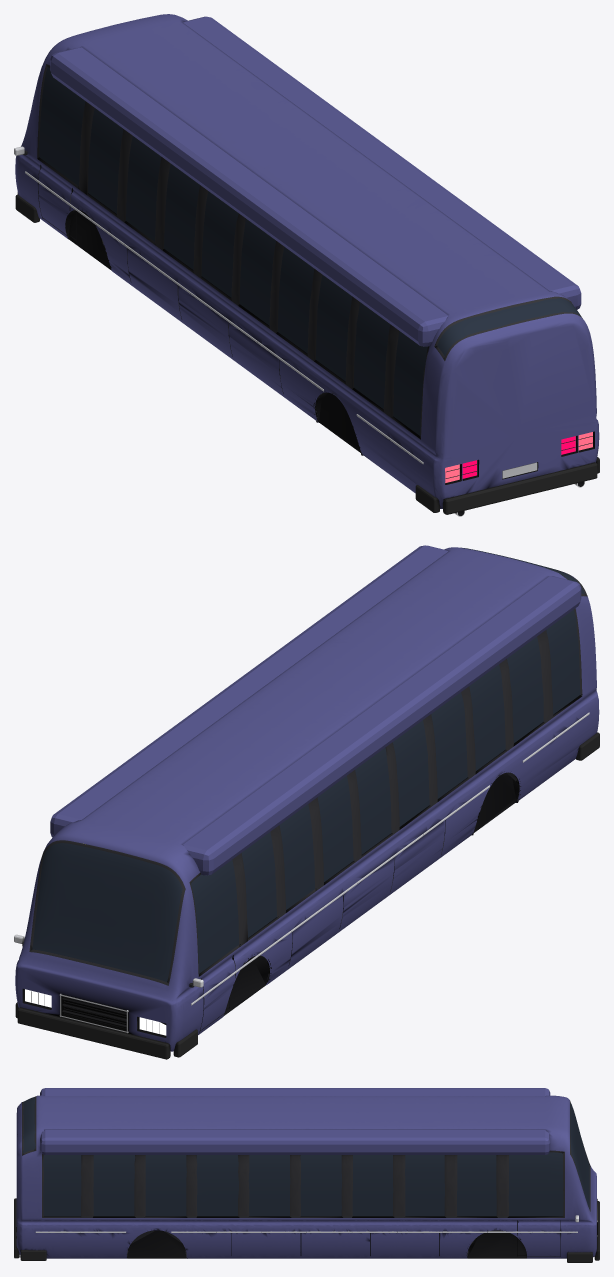
The model's file is bus_lo.glb.
3 renders of one model, top to bottom at view 1: azimuth 30°, elevation 25°; view 2: azimuth 150°, elevation 25°; view 3: azimuth 270°, elevation 25°, orthographic. The views are drawn at different scales.
Visible parts, largest first — view 1: body, glass_panes, part, part.024; view 2: body, glass_panes, part, part.021; view 3: body, glass_panes, part, part.026, part.023.
Part boxes in pixels (x1,y1,x2,y2): body: (15, 14, 599, 508); glass_panes: (38, 67, 581, 435); part: (50, 16, 581, 346); part.024: (443, 462, 597, 514); body: (15, 547, 599, 1051); glass_panes: (32, 547, 584, 982); part: (50, 545, 581, 875); part.021: (17, 1007, 170, 1059); body: (16, 1095, 596, 1258); glass_panes: (22, 1097, 589, 1216); part: (40, 1088, 550, 1154); part.026: (20, 1250, 46, 1260); part.023: (567, 1252, 592, 1262).
Size of the model in its own units: 2.82 by 2.65 by 11.18.
